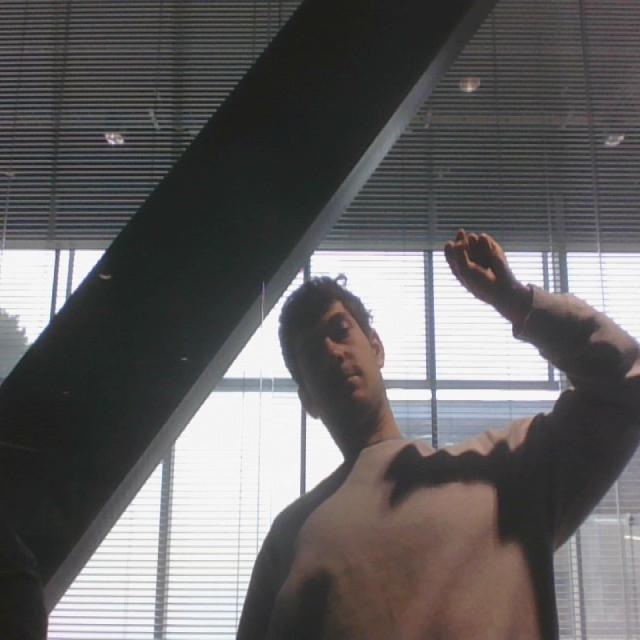stop: (440, 218, 518, 309)
